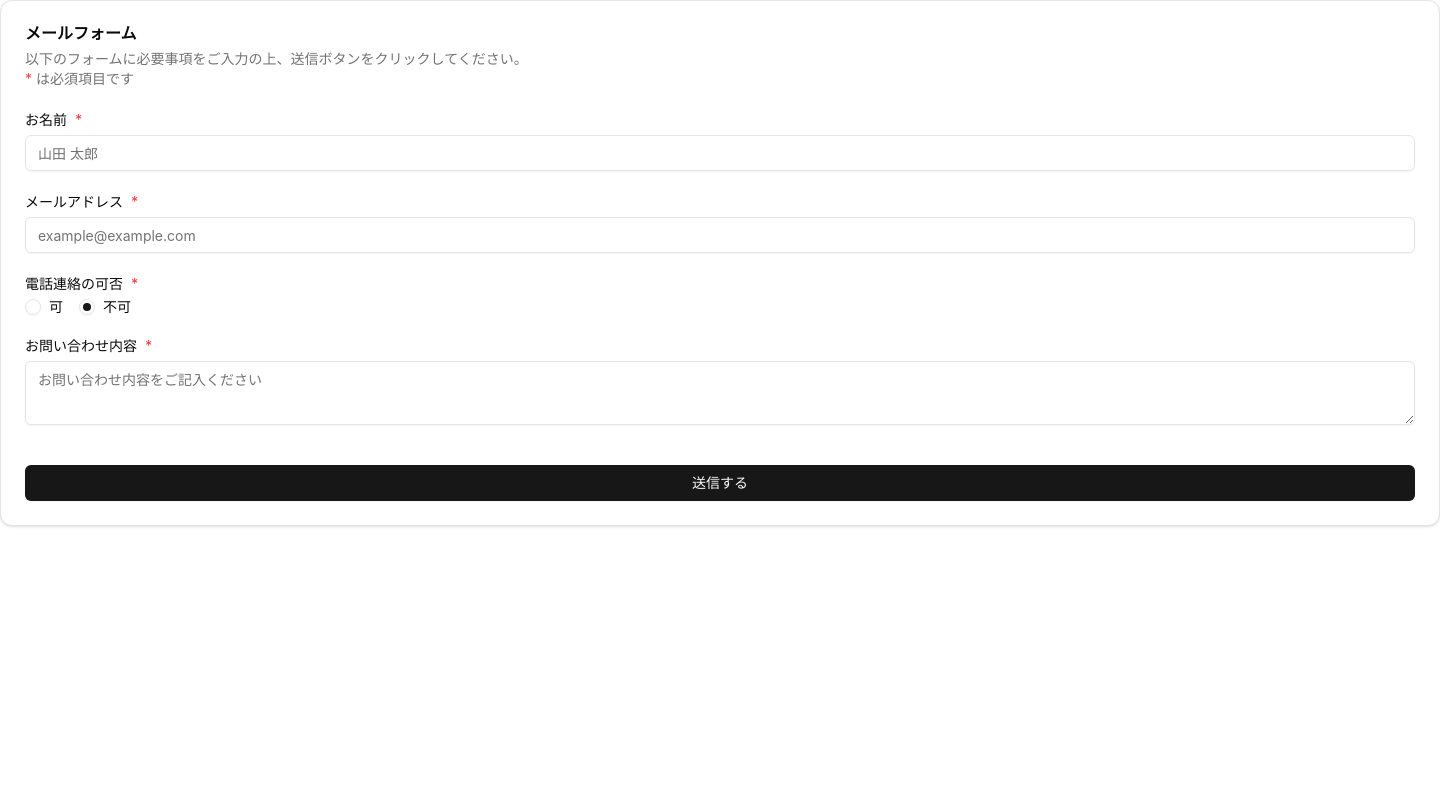
Test case: ContactEmailForm › Conditional Display of Phone Number Field › hides phone number field when "不可" is selected after being "可"
Click the 1st radio button named "可": {"x": 33, "y": 307} x1=25 y1=299 x2=41 y2=315
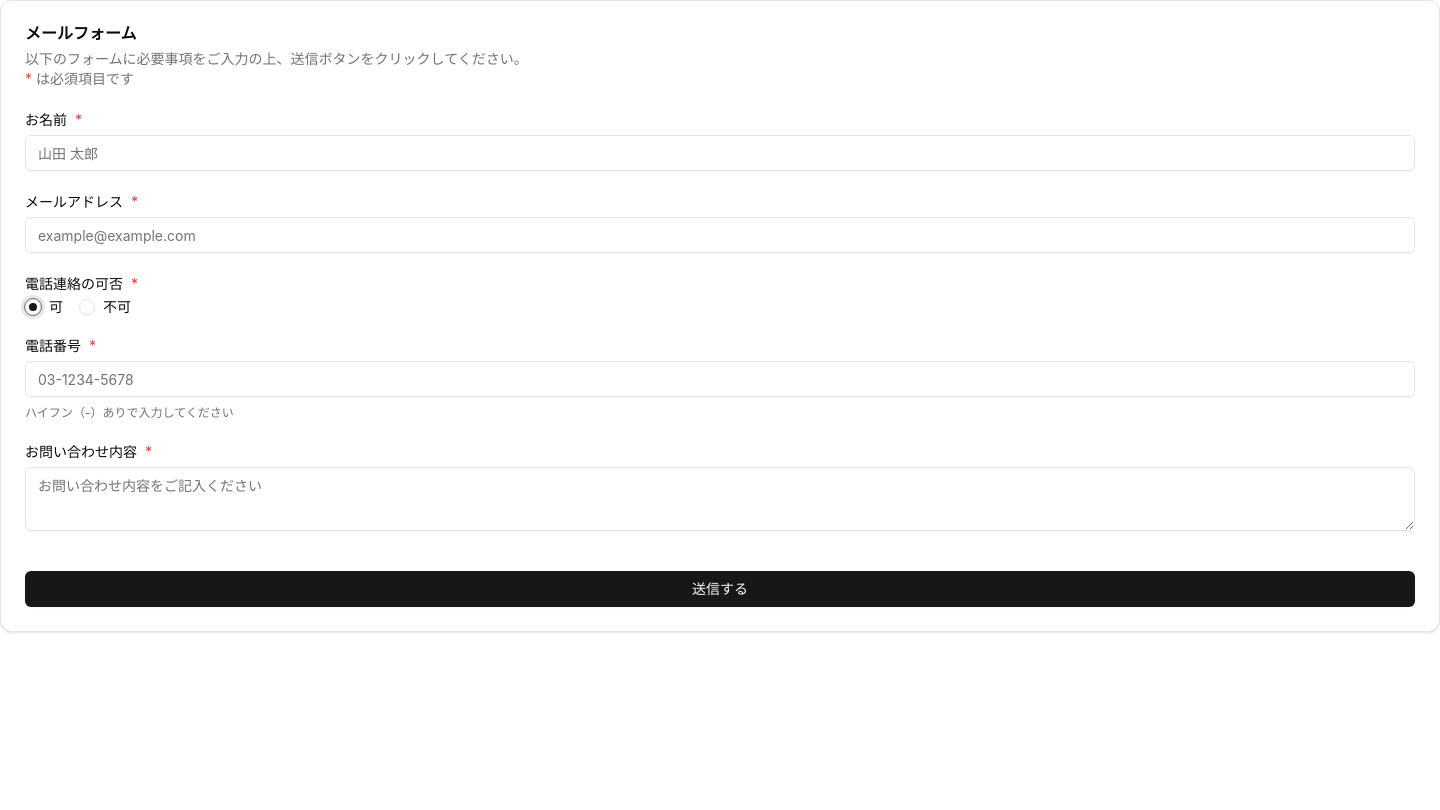
Expected: the field labelled "電話番号 *" is shown, x1=25 y1=361 x2=1415 y2=397
Click the radio button named "不可" next to "不可": {"x": 87, "y": 307} x1=79 y1=299 x2=95 y2=315
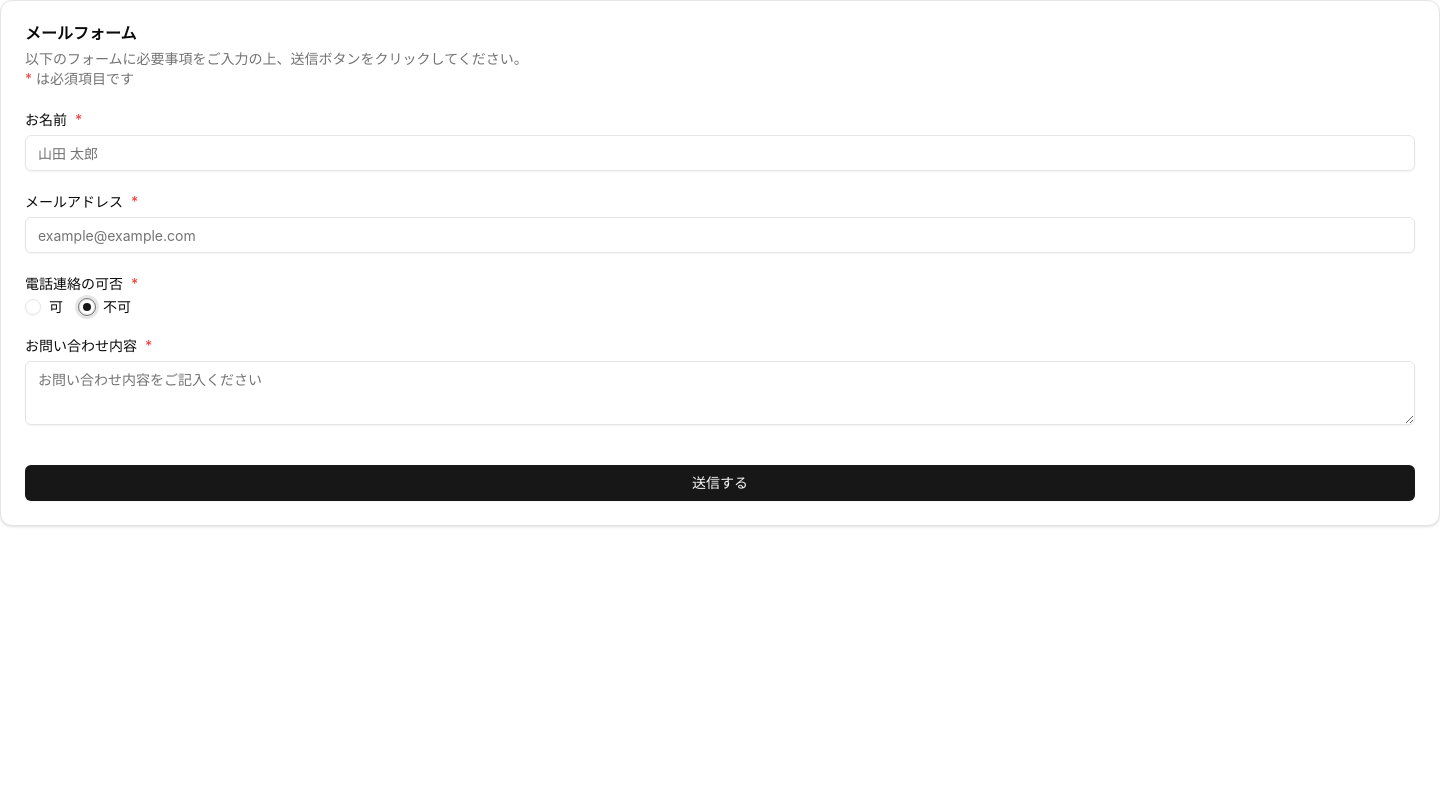
Expected: the label labelled "電話番号" is gone
